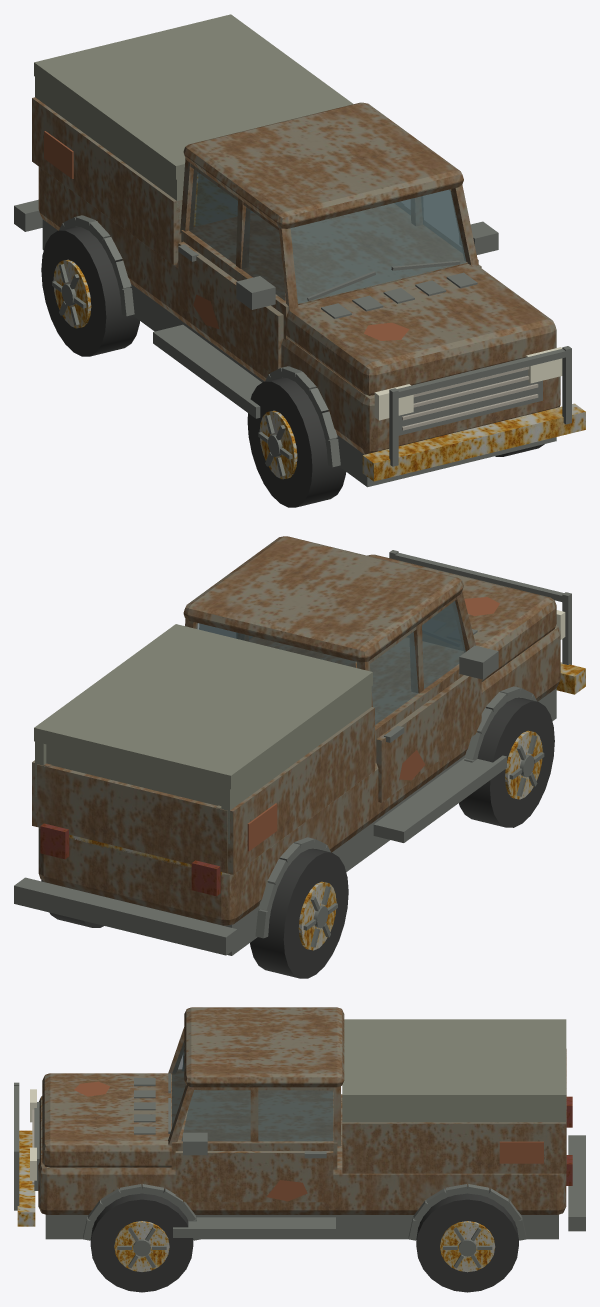
Rendered from utility_truck.glb.
The picture shows the model from 3 angles, top to bottom: view 1: azimuth 30°, elevation 25°; view 2: azimuth 150°, elevation 25°; view 3: azimuth 270°, elevation 25°; orthographic projection. The views are drawn at different scales.
Visible parts, largest first — view 1: Cargo_canvas_top_separate, Cab_roof_separate.002, Hood_separate.002, Cab_lower.002, Body_lower_separate.002, Windshield_glass_separate.002, Pickup_bed_side_-1.002, Tyre_-1_1.7_separate, Tyre_-1_-1.6_separate, Front_bumper.002, Side_door_-1_separate.002, Side_window_-1_separate.002 (+21 smaller); view 2: Cargo_canvas_top_separate, Cab_roof_separate.002, Body_lower_separate.002, Tailgate_separate.002, Pickup_bed_side_-1.002, Tyre_-1_1.7_separate, Rear_bumper.002, Side_door_-1_separate.002, Tyre_-1_-1.6_separate, Cab_lower.002, Side_window_-1_separate.002, Hood_separate.002 (+19 smaller); view 3: Cargo_canvas_top_separate, Body_lower_separate.002, Cab_roof_separate.002, Hood_separate.002, Pickup_bed_side_1.002, Cab_lower.002, Side_door_1_separate.002, Side_window_1_separate.002, Tyre_1_1.7_separate, Tyre_1_-1.6_separate, Chassis_separate.002, Cargo_canvas_side_1 (+17 smaller).
Boxes of the visible parts, x1,y1,x2,y2 form: Cargo_canvas_top_separate: [34, 14, 353, 179]; Cab_roof_separate.002: [183, 102, 463, 228]; Hood_separate.002: [286, 264, 556, 395]; Cab_lower.002: [181, 203, 478, 339]; Body_lower_separate.002: [38, 166, 560, 454]; Windshield_glass_separate.002: [290, 189, 466, 303]; Pickup_bed_side_-1.002: [32, 97, 182, 264]; Tyre_-1_1.7_separate: [41, 226, 139, 356]; Tyre_-1_-1.6_separate: [247, 377, 346, 507]; Front_bumper.002: [362, 403, 585, 481]; Side_door_-1_separate.002: [178, 241, 283, 372]; Side_window_-1_separate.002: [189, 169, 285, 300]; Cargo_canvas_top_separate: [34, 624, 372, 789]; Cab_roof_separate.002: [183, 536, 463, 662]; Body_lower_separate.002: [38, 625, 560, 925]; Tailgate_separate.002: [37, 764, 227, 873]; Pickup_bed_side_-1.002: [216, 707, 374, 874]; Tyre_-1_1.7_separate: [250, 848, 348, 978]; Rear_bumper.002: [14, 877, 237, 955]; Side_door_-1_separate.002: [376, 675, 481, 802]; Tyre_-1_-1.6_separate: [459, 697, 554, 827]; Cab_lower.002: [249, 637, 463, 763]; Side_window_-1_separate.002: [370, 601, 465, 724]; Hood_separate.002: [367, 554, 556, 681]; Cargo_canvas_top_separate: [342, 1019, 566, 1105]; Body_lower_separate.002: [38, 1094, 566, 1214]; Cab_roof_separate.002: [184, 1007, 344, 1087]; Hood_separate.002: [42, 1073, 171, 1167]; Pickup_bed_side_1.002: [342, 1122, 566, 1173]; Cab_lower.002: [171, 1069, 337, 1169]; Side_door_1_separate.002: [175, 1151, 333, 1202]; Side_window_1_separate.002: [181, 1090, 333, 1141]; Tyre_1_1.7_separate: [416, 1193, 518, 1292]; Tyre_1_-1.6_separate: [90, 1193, 193, 1292]; Chassis_separate.002: [45, 1214, 558, 1239]; Cargo_canvas_side_1: [342, 1106, 566, 1122].
Bounding box in the file's own units: 2.36 × 2.3 × 5.8.
11 materials, 3 textured.
